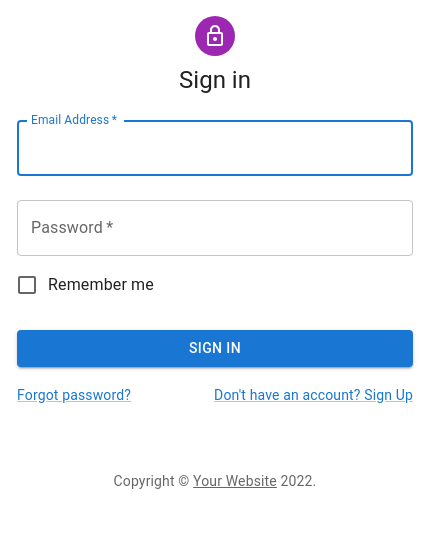
Scenario: Login › パスワード文字数バリデーションテスト
Type "abcd" into the password field labelled "Password" at {"x": 215, "y": 228}, box [17,200,413,256]
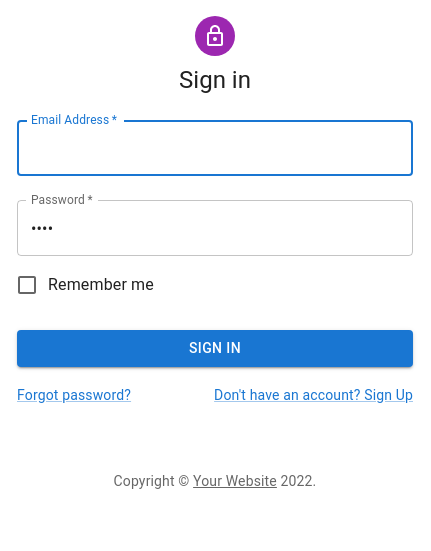
Submit the form from the button "Sign In", box [17,330,413,366]
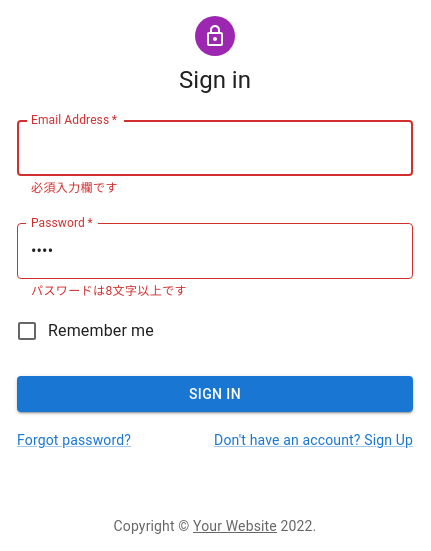
Now the text "パスワードは8文字以上です" is shown, box [31,284,187,298]
